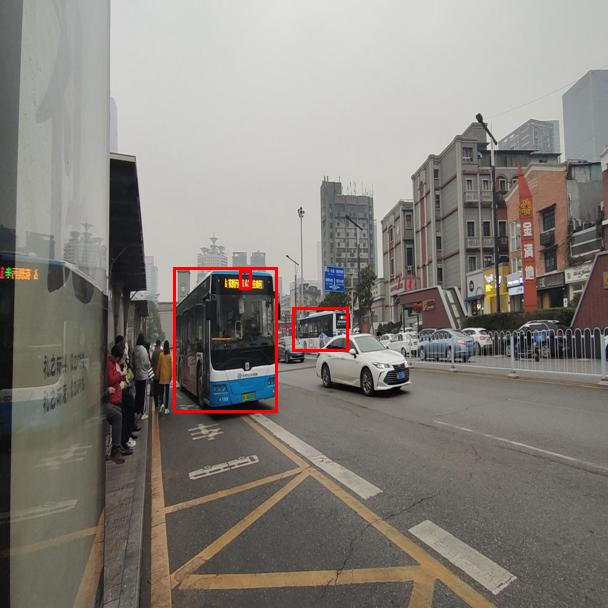bus: (173, 267, 277, 412), (292, 307, 348, 351)
screen: (239, 270, 251, 289)
